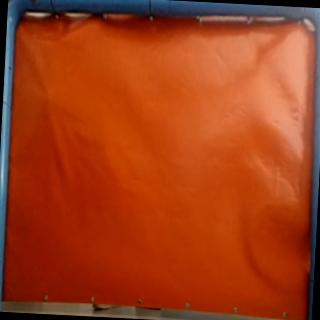Hit-hRxx: (40, 90, 54, 106)
